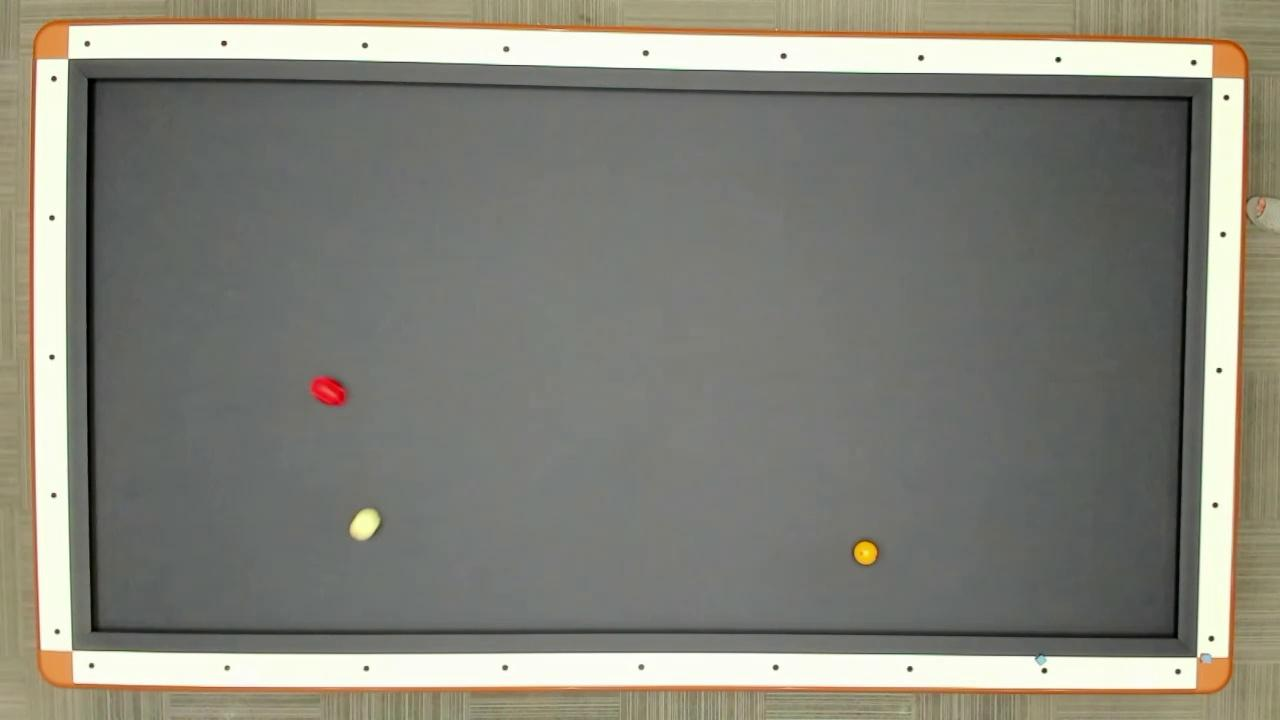Red: (306, 374, 350, 410)
White: (345, 505, 385, 545)
Yellow: (850, 537, 879, 568)
